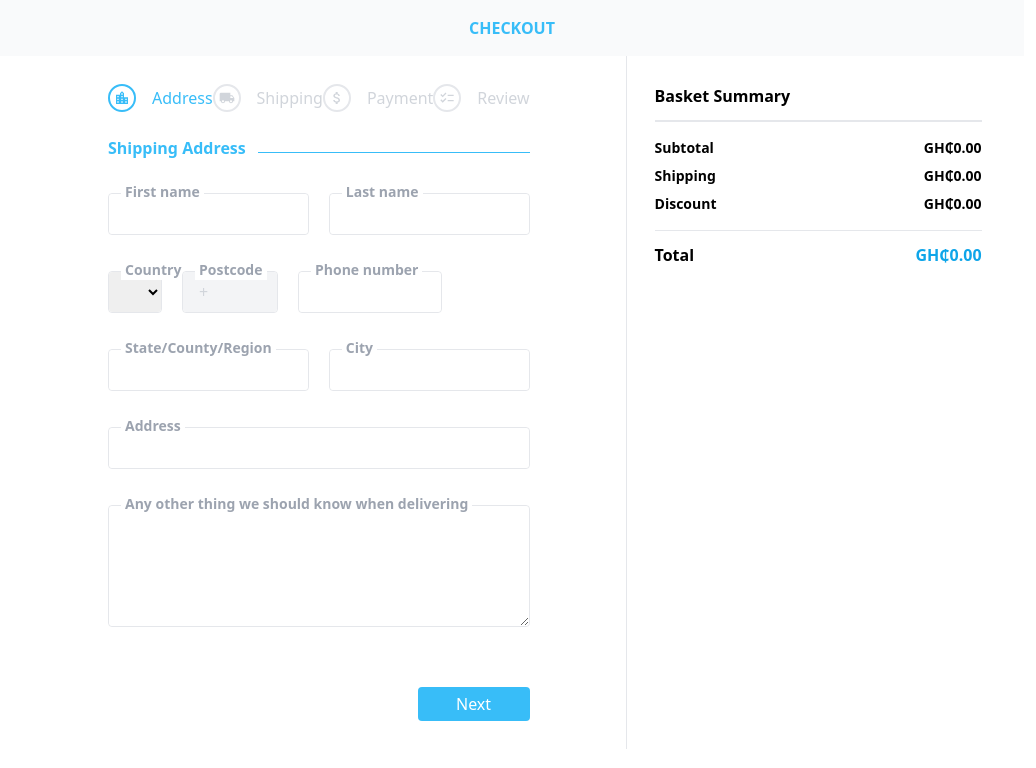
Scenario: Should render errors if payment methods request fails - Integration
# next section - shipping method
Click the button with test id "chonext": (474, 704) [418,687,530,721]
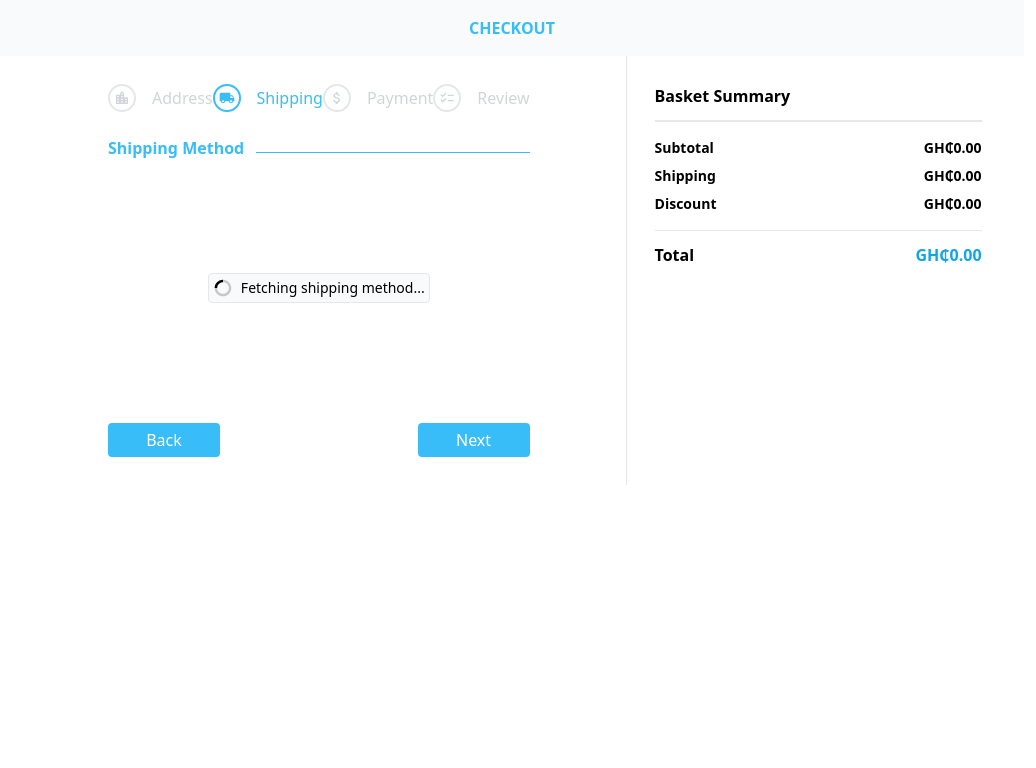
# next section - payment method
Click the button with test id "chonext": (474, 440) [418,423,530,457]
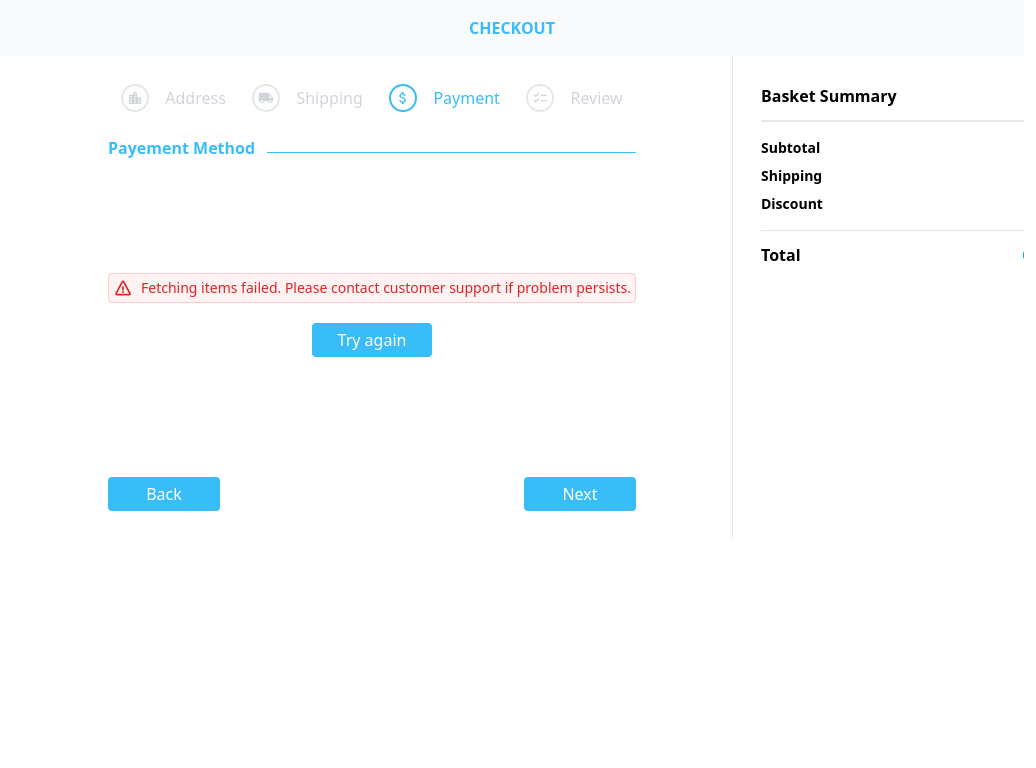
Result: the text "Fetching items failed. Please contact customer support if problem persists." is shown at [141,278,631,298]
